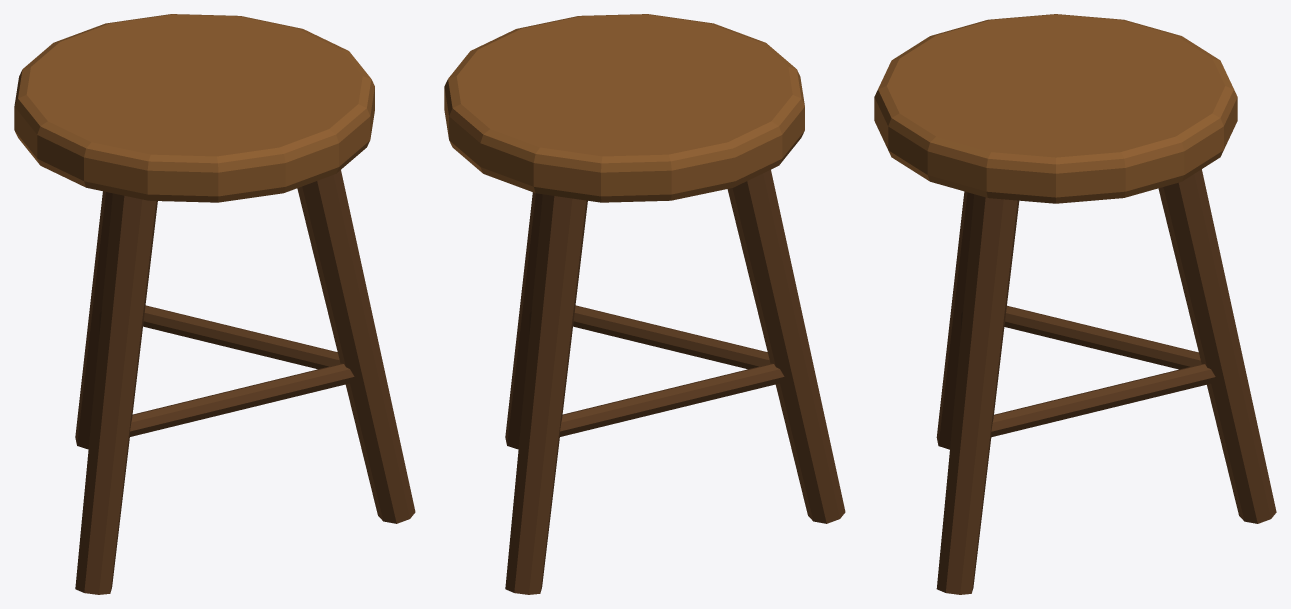
The model's file is wooden-stool_final.glb.
3 views of the same model, side by side, from view 1: azimuth 30°, elevation 25°; view 2: azimuth 150°, elevation 25°; view 3: azimuth 270°, elevation 25° (orthographic).
Parts seen in each view (by area): view 1: SM_WoodenStool_Seat, SM_WoodenStool_Leg02, SM_WoodenStool_Leg03, SM_WoodenStool_Rung02, SM_WoodenStool_Rung03, SM_WoodenStool_Leg01; view 2: SM_WoodenStool_Seat, SM_WoodenStool_Leg01, SM_WoodenStool_Leg02, SM_WoodenStool_Rung01, SM_WoodenStool_Rung02, SM_WoodenStool_Leg03; view 3: SM_WoodenStool_Seat, SM_WoodenStool_Leg03, SM_WoodenStool_Leg01, SM_WoodenStool_Rung03, SM_WoodenStool_Rung01, SM_WoodenStool_Leg02.
Part boxes in pixels (x1,y1,x2,y2): SM_WoodenStool_Seat: (14,14,374,202); SM_WoodenStool_Leg02: (75,193,157,594); SM_WoodenStool_Leg03: (297,170,415,523); SM_WoodenStool_Rung02: (129,363,354,436); SM_WoodenStool_Rung03: (143,305,340,369); SM_WoodenStool_Leg01: (75,191,112,449); SM_WoodenStool_Seat: (444,14,804,202); SM_WoodenStool_Leg01: (505,194,587,594); SM_WoodenStool_Leg02: (727,169,845,523); SM_WoodenStool_Rung01: (559,363,784,436); SM_WoodenStool_Rung02: (573,305,770,369); SM_WoodenStool_Leg03: (505,192,542,449); SM_WoodenStool_Seat: (874,14,1237,203); SM_WoodenStool_Leg03: (936,194,1019,594); SM_WoodenStool_Leg01: (1158,169,1276,523); SM_WoodenStool_Rung03: (991,364,1215,437); SM_WoodenStool_Rung01: (1004,305,1201,369); SM_WoodenStool_Leg02: (936,191,974,449).
Bounding box in the file's own units: 0.3826 × 0.47 × 0.3986.
